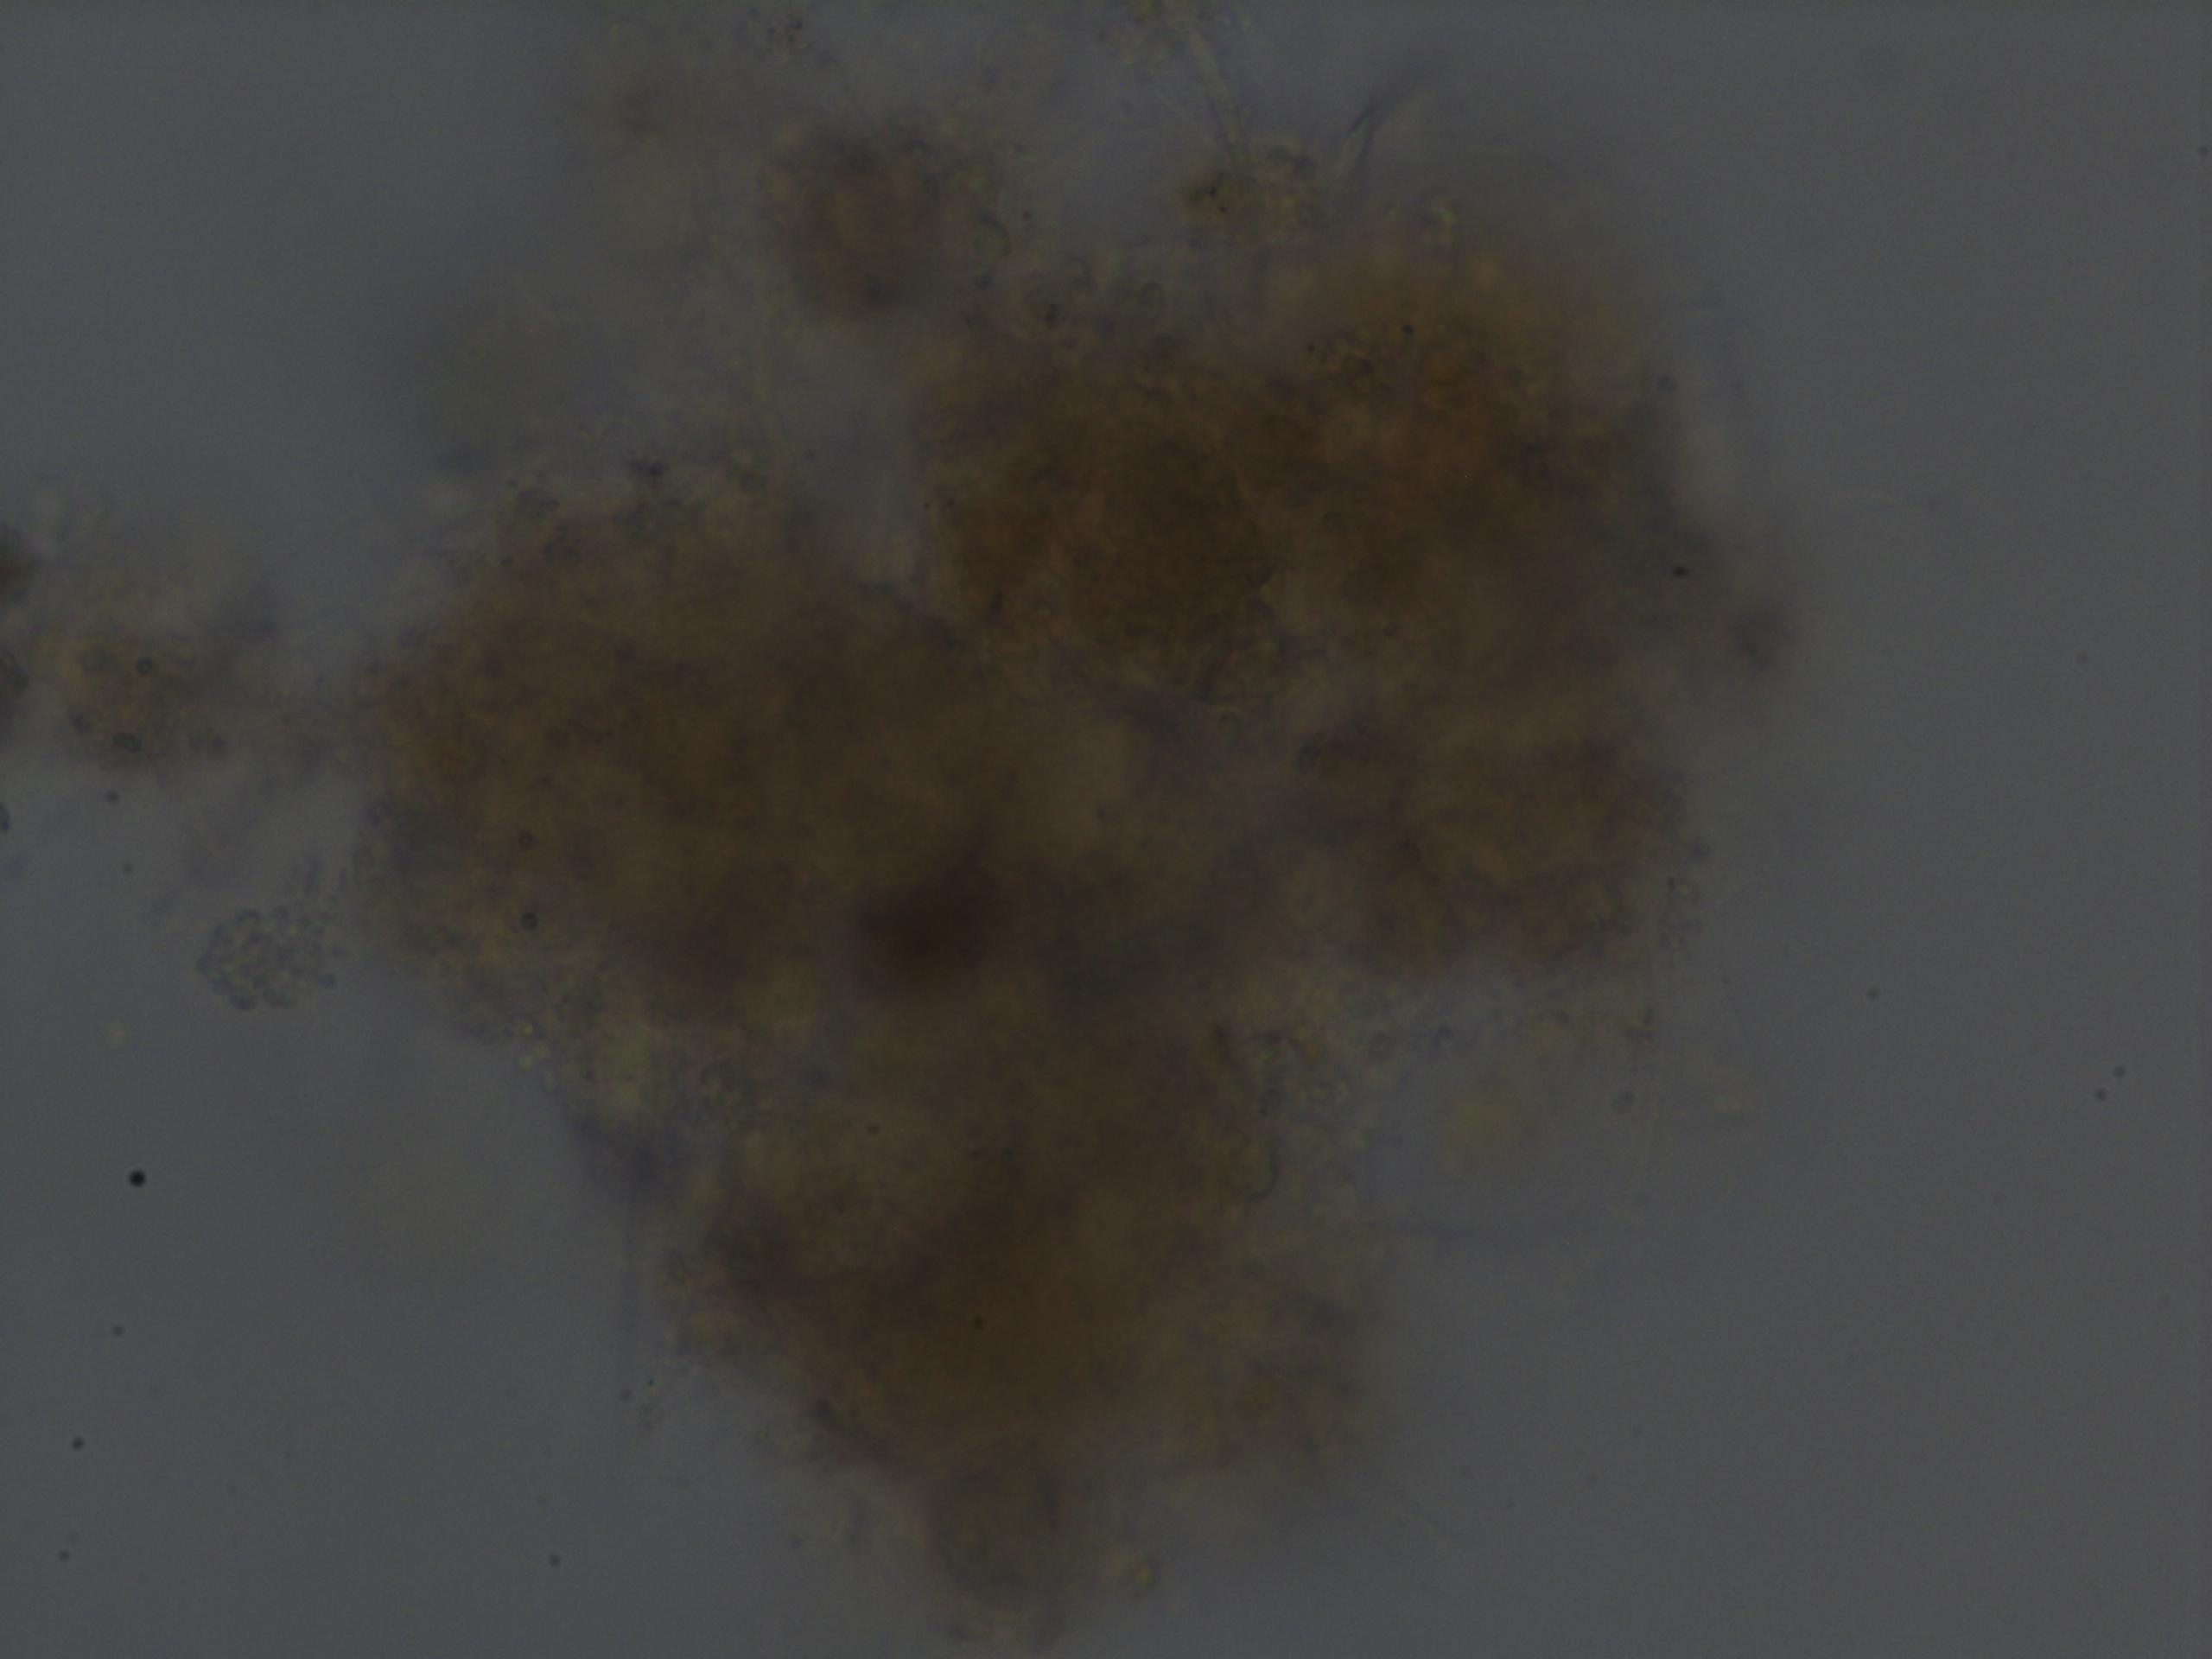filament: (1127, 9, 1416, 214)
spherical_floc: (350, 110, 1804, 1659)
